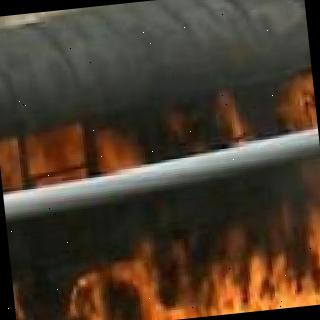fire: (52, 210, 320, 320), (151, 82, 318, 150), (0, 116, 139, 187), (6, 232, 27, 320)
